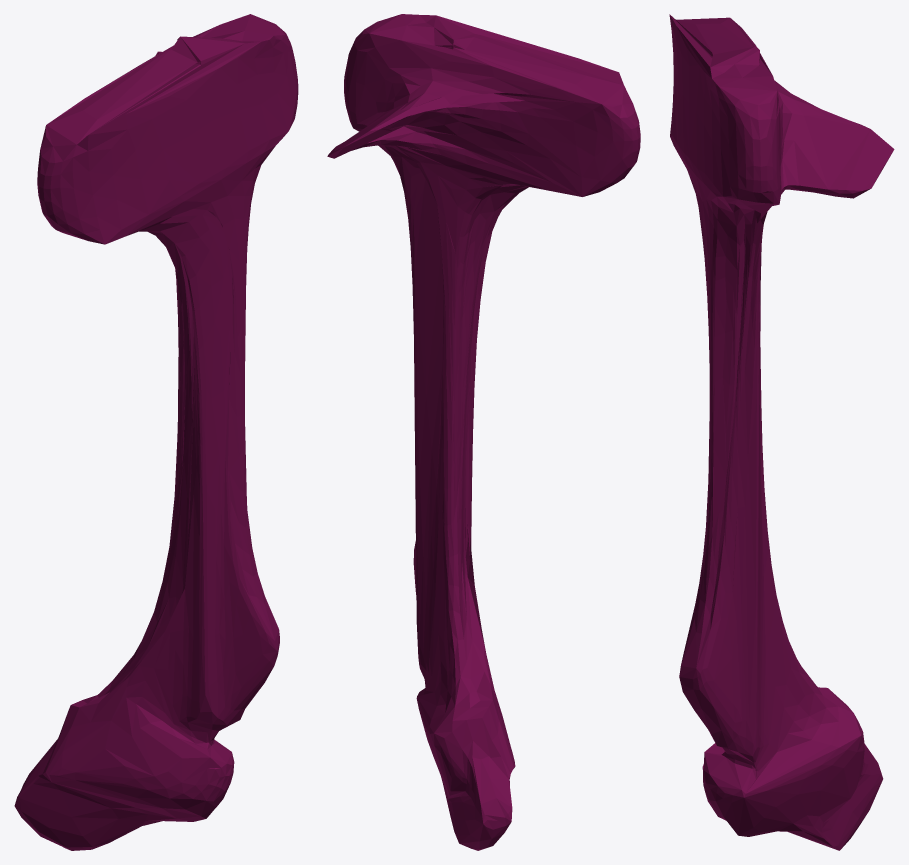
3 views of the same model, side by side, from view 1: azimuth 30°, elevation 25°; view 2: azimuth 150°, elevation 25°; view 3: azimuth 270°, elevation 25° (orthographic). The views are drawn at different scales.
Visible parts, largest first — view 1: 784_Cube.3159; view 2: 784_Cube.3159; view 3: 784_Cube.3159.
Part boxes in pixels (x1,y1,x2,y2): 784_Cube.3159: [14, 14, 298, 850]; 784_Cube.3159: [327, 14, 640, 850]; 784_Cube.3159: [669, 14, 894, 850].
Size of the model in its own units: 5.41 by 14.96 by 3.69.
